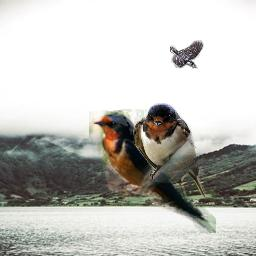Swallow: (89, 109, 216, 233), (133, 103, 206, 199)
Woodpecker: (170, 40, 204, 69)
